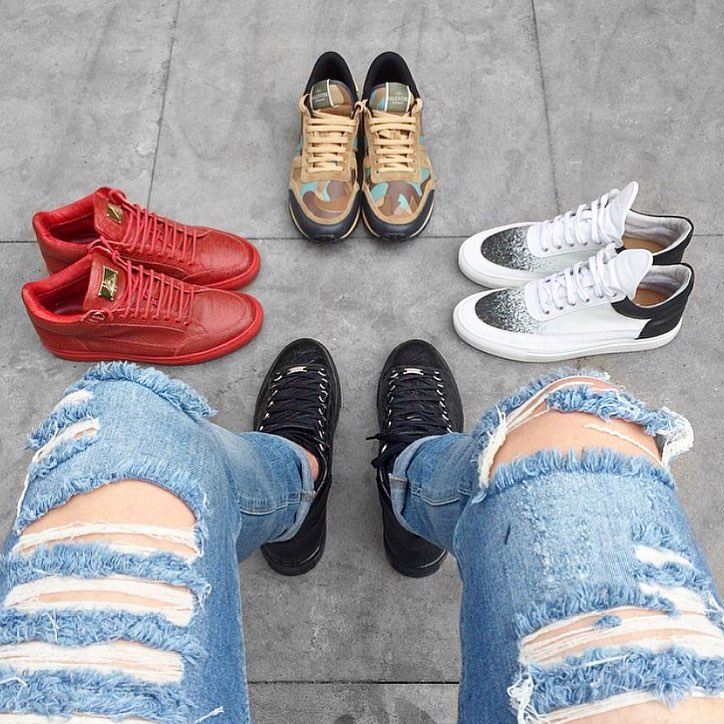sneaker: (356, 322, 479, 590), (239, 319, 355, 590)
